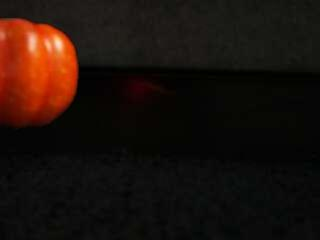Pumpkin: (0, 16, 80, 131)
